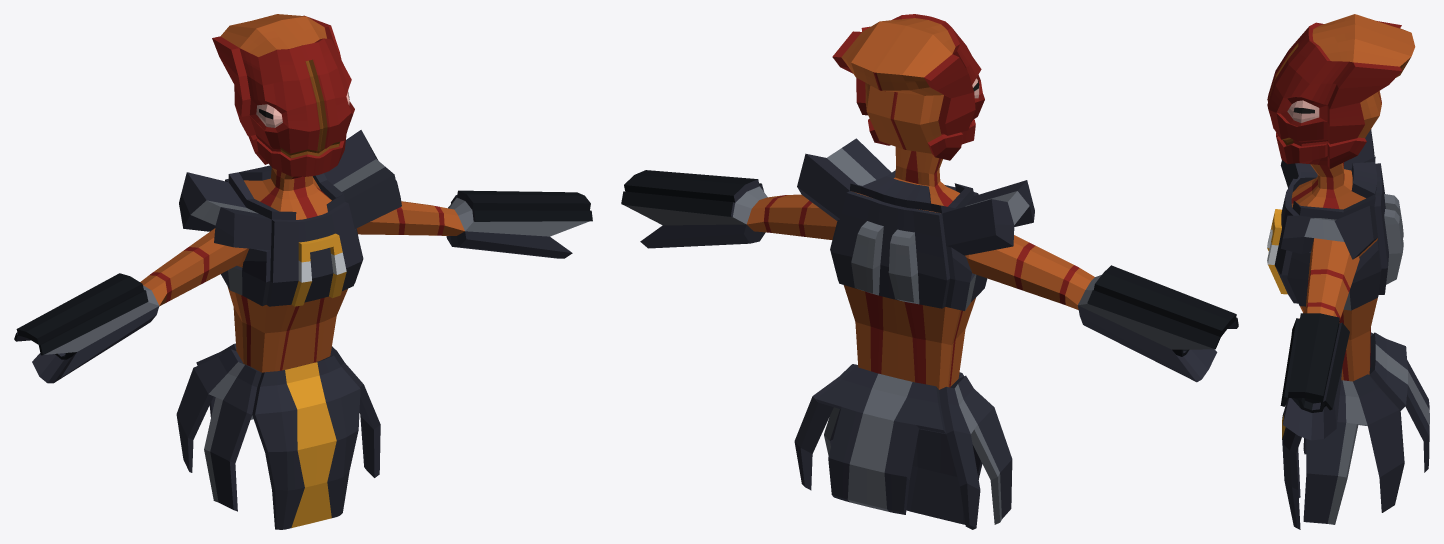
The model's file is PersonajeRobot.fbx.
The picture shows the model from 3 angles, left to right: view 1: azimuth 30°, elevation 25°; view 2: azimuth 150°, elevation 25°; view 3: azimuth 270°, elevation 25°; orthographic projection. The views are drawn at different scales.
Parts seen in each view (by area): view 1: personaje; view 2: personaje; view 3: personaje.
Boxes of the visible parts, x1,y1,x2,y2 form: personaje: [14, 14, 592, 529]; personaje: [621, 14, 1238, 529]; personaje: [1267, 14, 1429, 529].
Bounding box in the file's own units: 1063 × 875 × 263.
